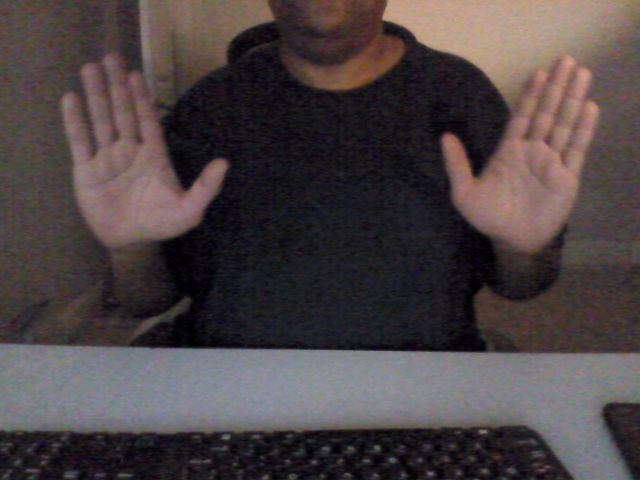great: (52, 50, 599, 243)
